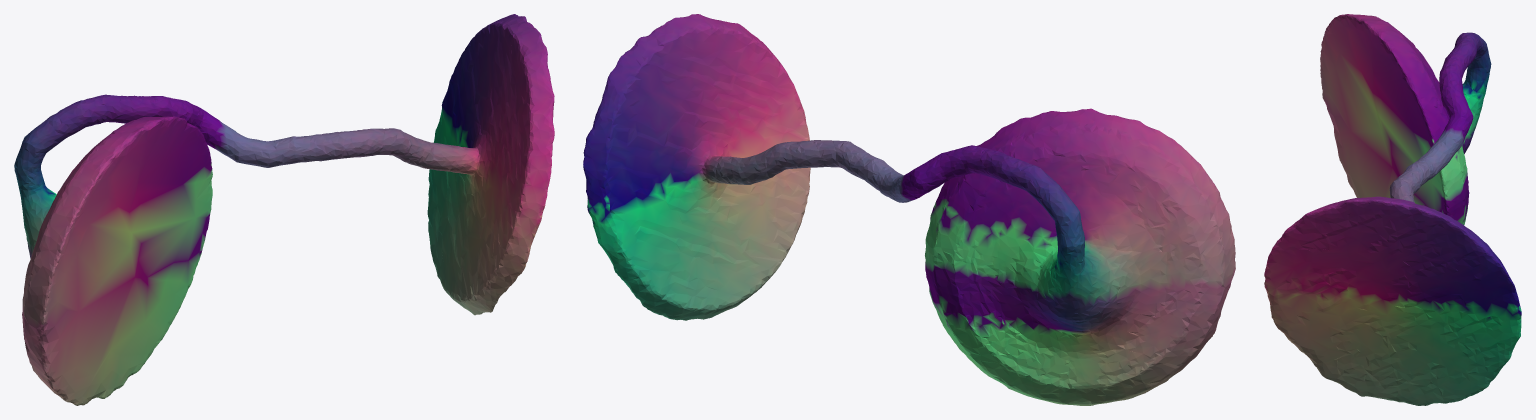
File: lamp-19.off.obj
3 views of the same model, side by side, from view 1: azimuth 30°, elevation 25°; view 2: azimuth 150°, elevation 25°; view 3: azimuth 270°, elevation 25° (orthographic). The views are drawn at different scales.
Bounding box in the file's own units: 1.69 × 0.8193 × 0.7881.
